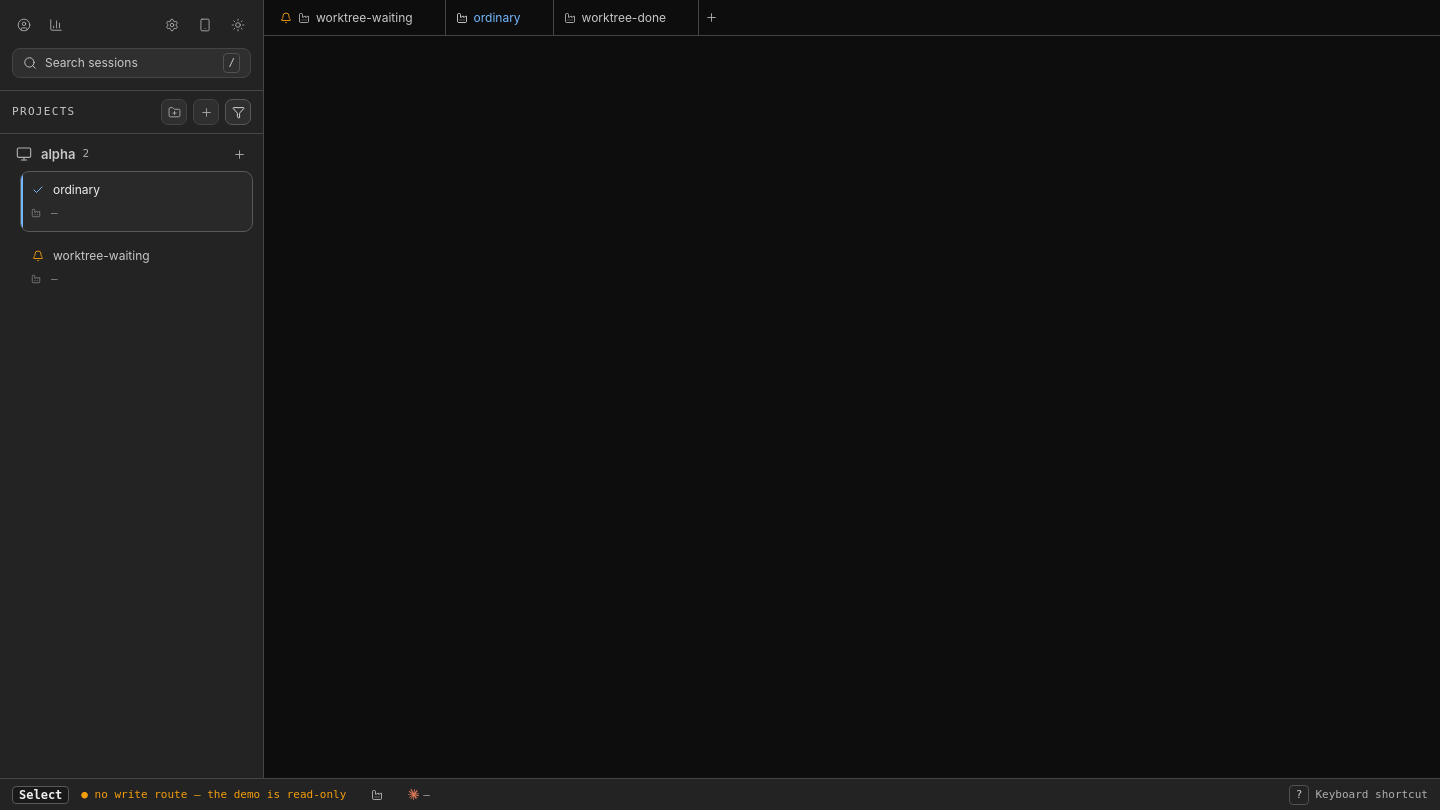
Test: hiding a Claude Code agent worktree › counts only what the rule actually holds back -- never the waiting one, which was never hidden
Click the button named "filter sessions" at [238, 112], box [225,99,251,125]
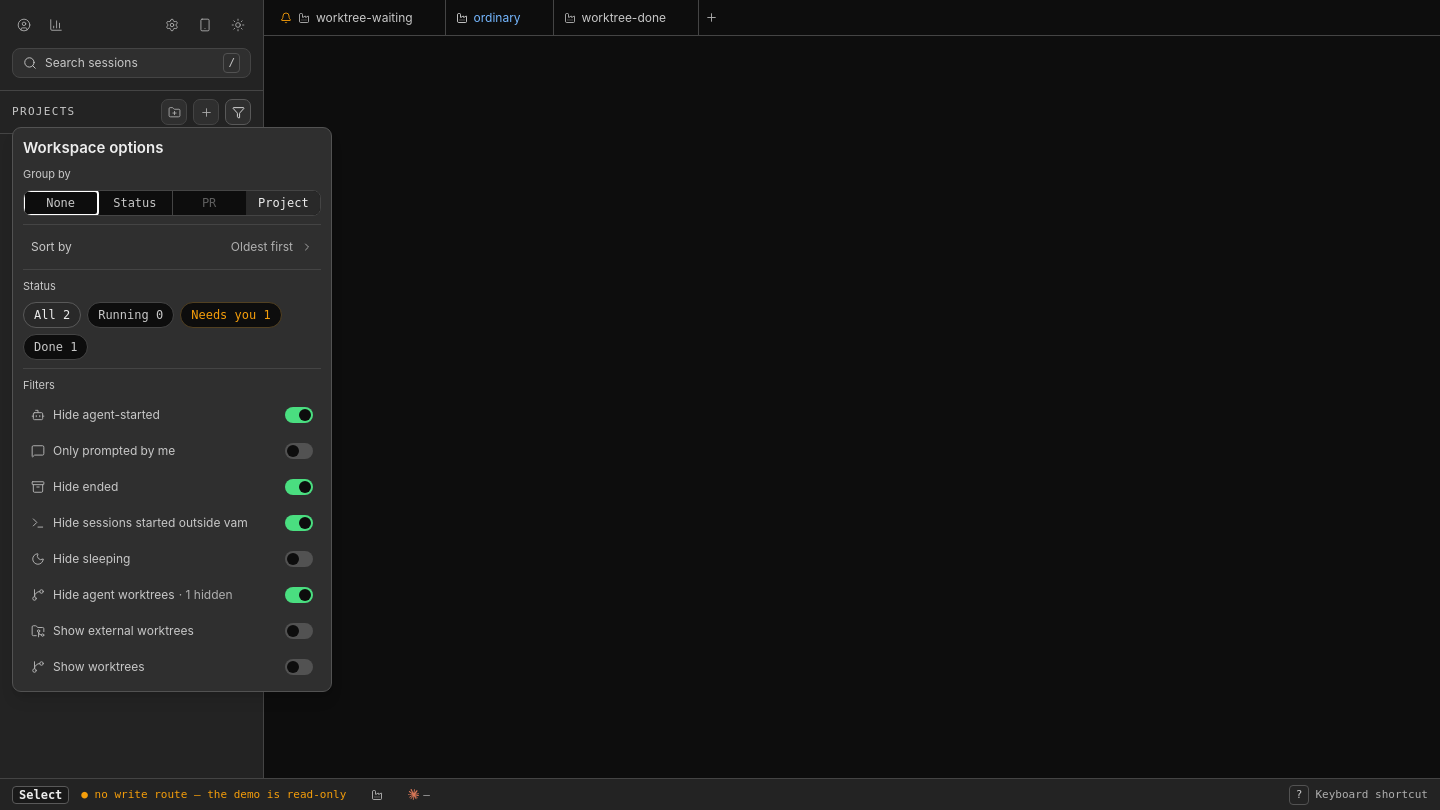
Expected: the switch labelled "Hide agent worktrees · 1 hidden" is shown, [23,581,321,609]
